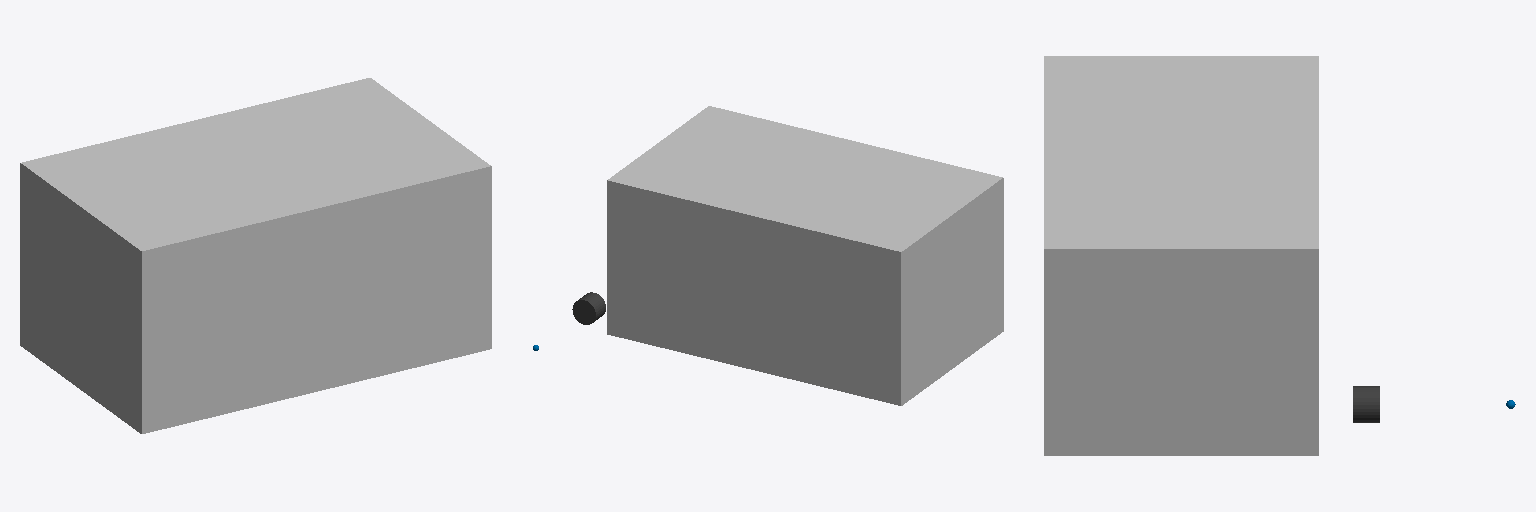
The robot description file, URDF, robot "bravo7":
<robot name="bravo7">
    
  <material name="blue">
    <color rgba="0.8 0.8 0.8 0.5"/>
  </material>

 <link name="mobile_base">
    <visual>
      <geometry>
        <box size="1.0 0.6 0.5"/>
      </geometry>
       <material name="blue"/>
    </visual>
  </link>

    <link name="base_link"/>
    <material name="bravo_black">
    <color rgba="0.3 0.3 0.3 0.7"/>
    </material>
    <joint name="bravo_joint" type="fixed">
        <origin rpy="0 0 0" xyz="0 0 0"/>
        <parent link="base_link"/>
        <child link="bravo_base_link"/>
    </joint>
    <link name="bravo_base_link"/>

 <joint name="bravo_base" type="fixed">
    <parent link="mobile_base"/>
    <child link="base_link"/>
    <origin rpy="0 1.57 -1.57" xyz="0.5 0.3 -0.15"/>
  </joint>

    <link name="bravo_rs2_266_link">
        <visual>
            <geometry>
                <mesh filename="package://bravo_description/meshes/RS2-266.stl"/>
            </geometry>
            <material name="bravo_black"/>
        </visual>
    </link>

    <joint name="bravo_rs2_266_joint" type="fixed">
        <parent link="bravo_base_link"/>
        <child link="bravo_rs2_266_link"/>
        <origin rpy="0 0 0"/>
    </joint>

    <link name="bravo_rs2_217_link">
        <visual>
            <geometry>
                <mesh filename="package://bravo_description/meshes/RS2-217.stl"/>
            </geometry>
            <material name="bravo_black"/>
        </visual>
    </link>

    <joint name="bravo_axis_g" type="revolute">
        <parent link="bravo_rs2_266_link"/>
        <child link="bravo_rs2_217_link"/>
        <origin rpy="0 0 0" xyz="0.0665 0 0.078"/>
        <axis xyz="0 0 -1"/>
        <limit effort="9.0" lower="0.0" upper="6.3" velocity="0.5"/>
    </joint>

    <link name="bravo_rs2_250_212_214_link">
        <visual>
            <geometry>
                <mesh filename="package://bravo_description/meshes/RS2-250-212-214.stl"/>
            </geometry>
            <material name="bravo_black"/>
        </visual>
    </link>

    <joint name="bravo_axis_f" type="revolute">
        <parent link="bravo_rs2_217_link"/>
        <child link="bravo_rs2_250_212_214_link"/>
        <origin rpy="0 0 0" xyz="-0.046 0 0.0674"/>
        <axis xyz="0 1 0"/>
        <limit effort="9.0" lower="0.0" upper="3.5" velocity="0.5"/>
    </joint>

    <link name="bravo_rs2_268_link">
        <visual>
            <geometry>
                <mesh filename="package://bravo_description/meshes/RS2-268.stl"/>
            </geometry>
            <material name="bravo_black"/>
        </visual>
    </link>

    <joint name="bravo_axis_e" type="revolute">
        <parent link="bravo_rs2_250_212_214_link"/>
        <child link="bravo_rs2_268_link"/>
        <origin rpy="0 0 0" xyz="-0.0052 0 -0.29055"/>
        <axis xyz="0 1 0"/>
        <limit effort="9.0" lower="0.0" upper="3.5" velocity="0.5"/>
    </joint>


    <link name="bravo_rs2_214_link">
        <visual>
            <geometry>
                <mesh filename="package://bravo_description/meshes/RS2-214.stl"/>
            </geometry>
            <material name="bravo_black"/>
        </visual>
    </link>

    <joint name="bravo_axis_d" type="revolute">
        <parent link="bravo_rs2_268_link"/>
        <child link="bravo_rs2_214_link"/>
        <origin rpy="0 0 0" xyz="0.0408 0 0.09695"/>
        <axis xyz="0 0 -1"/>
        <limit effort="9.0" lower="0.0" upper="6.3" velocity="0.5"/>
    </joint>

    <link name="bravo_rs2_161_link">
        <visual>
            <geometry>
                <mesh filename="package://bravo_description/meshes/RS2-161.stl"/>
            </geometry>
            <material name="bravo_black"/>
        </visual>
    </link>

    <joint name="bravo_axis_c" type="revolute">
        <parent link="bravo_rs2_214_link"/>
        <child link="bravo_rs2_161_link"/>
        <origin rpy="0 0 0" xyz="-0.0408 0 0.063"/>
        <axis xyz="0 1 0"/>
        <limit effort="9.0" lower="0.0" upper="3.5" velocity="0.5"/>
    </joint>



    <link name="bravo_rs2_180_link">
        <visual>
            <geometry>
                <mesh filename="package://bravo_description/meshes/RS2-180.stl"/>
            </geometry>
            <material name="bravo_black"/>
        </visual>
    </link>

    <link name="force_torque_sensor">
        <visual>
            <geometry>
                <cylinder length="0.06" radius="0.04"/>
            </geometry>
            <material name="bravo_black"/>
        </visual>
    </link>

    <joint name="FT_fixed_1" type="fixed">
    <origin rpy="0 0 1.57" xyz=" 0 0 -0.03"/>
    <parent link="bravo_rs2_180_link"/>
    <child link="force_torque_sensor"/>
    </joint>

    <joint name="bravo_axis_b" type="revolute">
        <parent link="bravo_rs2_161_link"/>
        <child link="bravo_rs2_180_link"/>
        <origin rpy="0 3.14159 0" xyz="-0.0408 0 -0.14863"/>
        <axis xyz="0 0 -1"/>
        <limit effort="9.0" lower="0.0" upper="6.3" velocity="0.5"/>
    </joint>

    <joint name="bravo_jaws_joint" type="fixed">
    <origin rpy="0 0 0" xyz=" 0 0 0.124"/>
    <parent link="bravo_rs2_180_link"/>
    <child link="bravo_jaws_base_link"/>
  </joint>

    <material name="bravo_jaws_black">
    <color rgba="0.3 0.3 0.3 1"/>
  </material>

  <link name="bravo_jaws_base_link"/>       
   
    

<!-- contact_point_joint -->
  <joint name="contact_point_joint" type="fixed">
<!-- 0.16/0.185 for plastic/metal tool with boardmarker-->
<!-- 0.15/0.21 for blue/white polymer tool with sponge -->
    <origin rpy="0 0 0" xyz="0 0 0.315"/>
    <parent link="force_torque_sensor"/>
    <child link="contact_point"/>
  </joint>

<!-- contact_point -->
  <link name="contact_point">
    <visual>
      <origin rpy="0 0 0" xyz="0 0 0"/>
      <geometry>
        <sphere radius="0.01"/>
      </geometry>
      <material name="Red"/>
    </visual>
  </link>


</robot>

--- Render facts (derived) ---
3 views of the same robot in one strip: view 1: azimuth 30°, elevation 25°; view 2: azimuth 150°, elevation 25°; view 3: azimuth 270°, elevation 25° (orthographic).
Robot: bravo7 — 13 links, 12 joints (6 revolute, 6 fixed); root link mobile_base; default pose: all joints at 0.
Visible links, largest first — view 1: mobile_base; view 2: mobile_base, force_torque_sensor; view 3: mobile_base, force_torque_sensor.
Boxes of the visible links, bbox=[...] form: mobile_base: bbox=[20, 78, 491, 433]; mobile_base: bbox=[607, 106, 1003, 405]; force_torque_sensor: bbox=[572, 292, 605, 324]; mobile_base: bbox=[1044, 56, 1318, 455]; force_torque_sensor: bbox=[1353, 386, 1379, 422].
Bounding box of the posed robot: 1.04 × 1.03 × 0.5 m (x, y, z).
Meshes: 7 distinct files referenced, 0 mesh visuals loaded (none loaded); not drawn: 7 (reference not matched to a file when rendering).